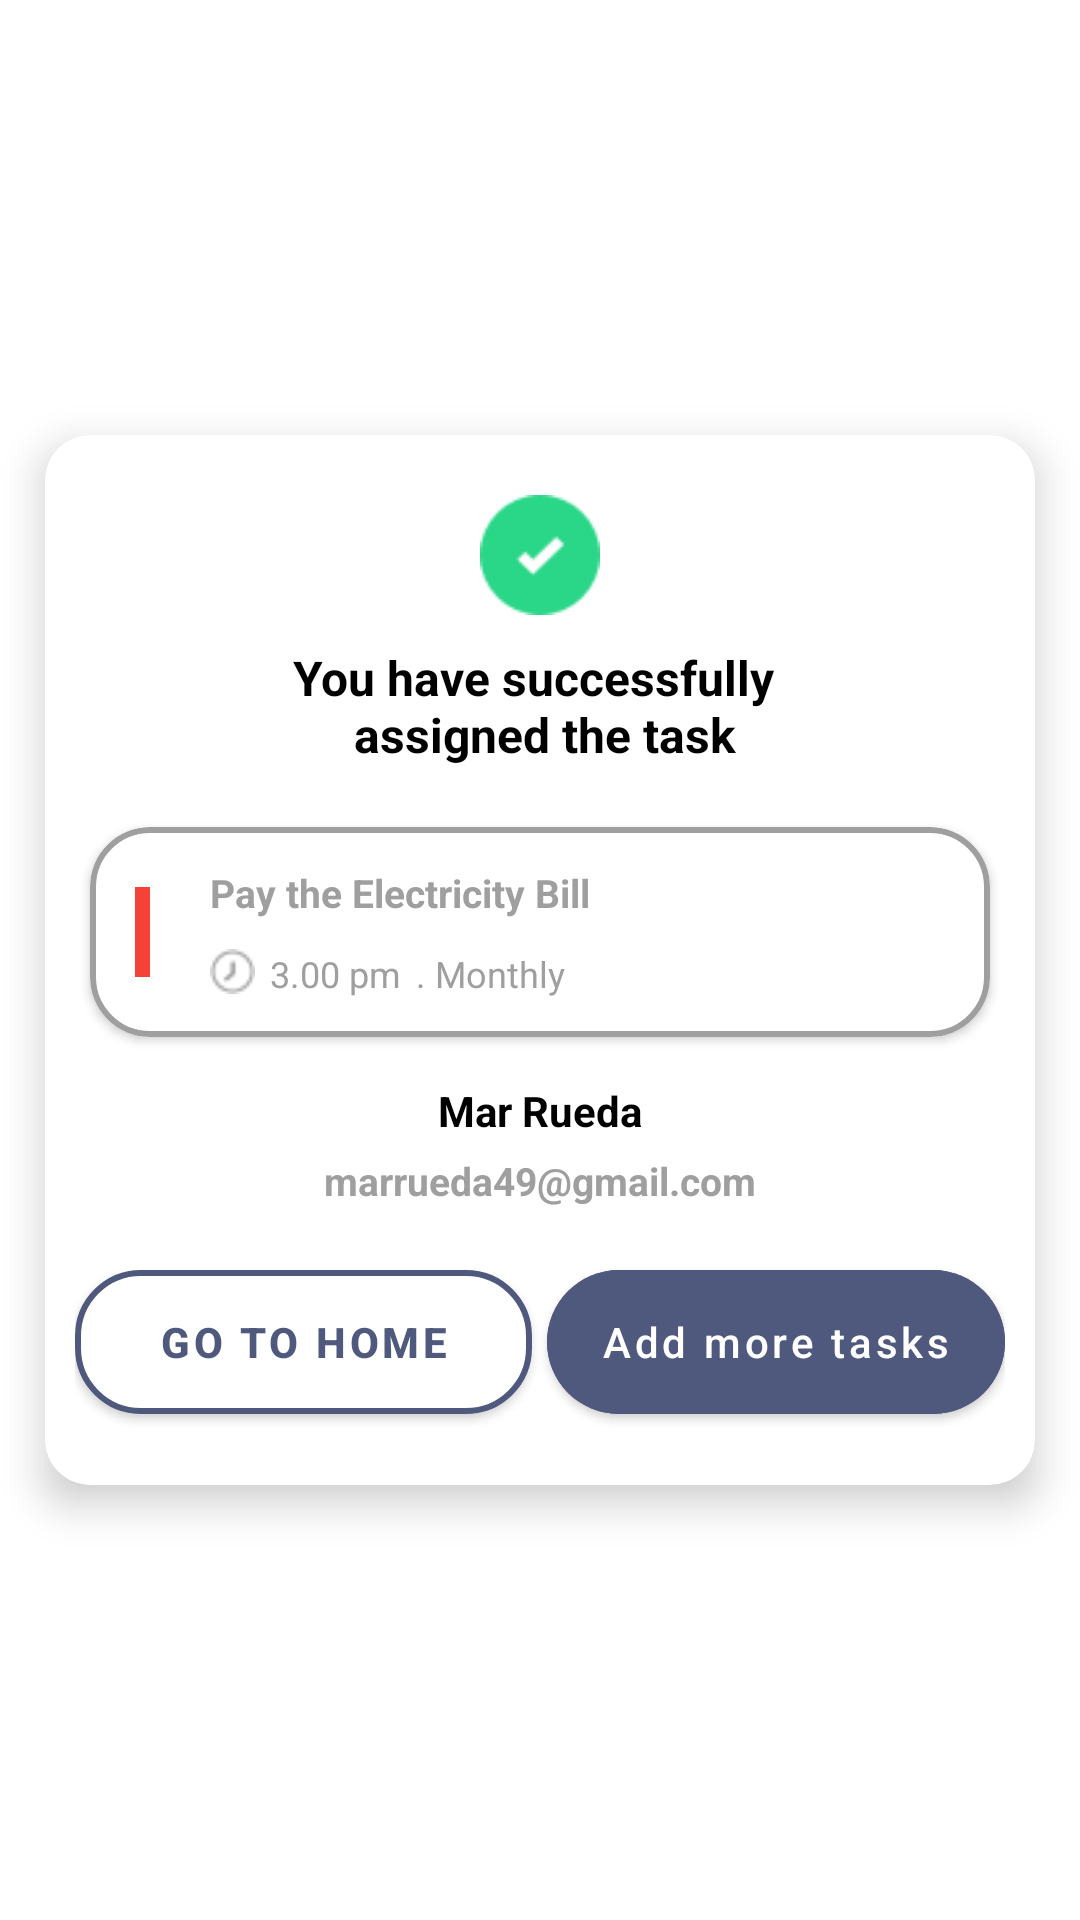

Named icons in this screenshot (1080*1920) and their centers, (x=x, y=y):
pending: (x=232, y=971)
